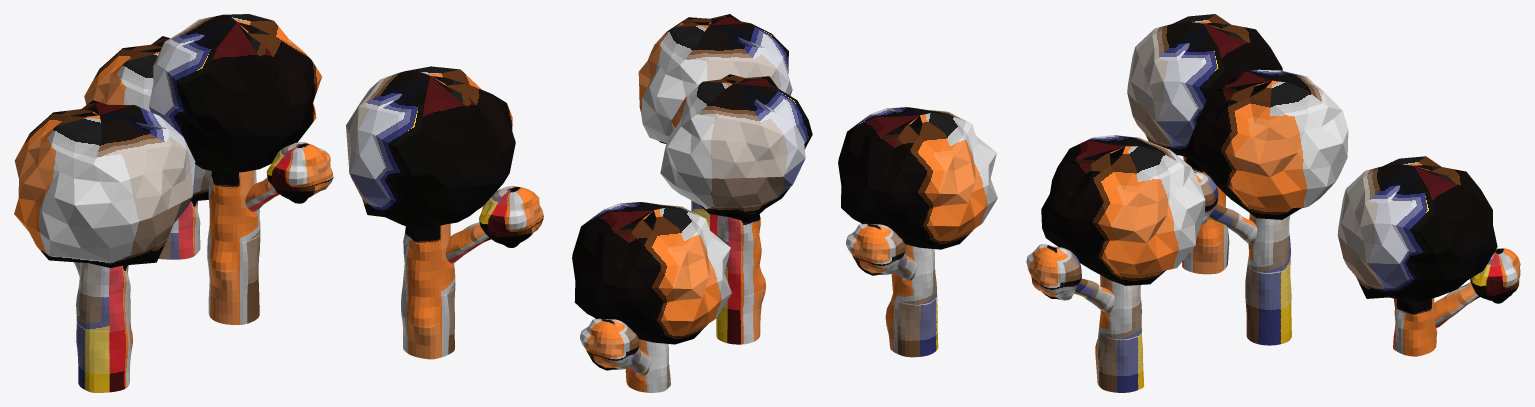
File: tree.fbx
3 views of the same model, side by side, from view 1: azimuth 30°, elevation 25°; view 2: azimuth 150°, elevation 25°; view 3: azimuth 270°, elevation 25° (orthographic). The views are drawn at different scales.
Parts seen in each view (by area): view 1: Cylinder; view 2: Cylinder; view 3: Cylinder.
Boxes of the visible parts, x1,y1,x2,y2 form: Cylinder: (14,14,543,392); Cylinder: (572,14,997,392); Cylinder: (1026,14,1520,392).
Size of the model in its own units: 152 by 98.06 by 170.
